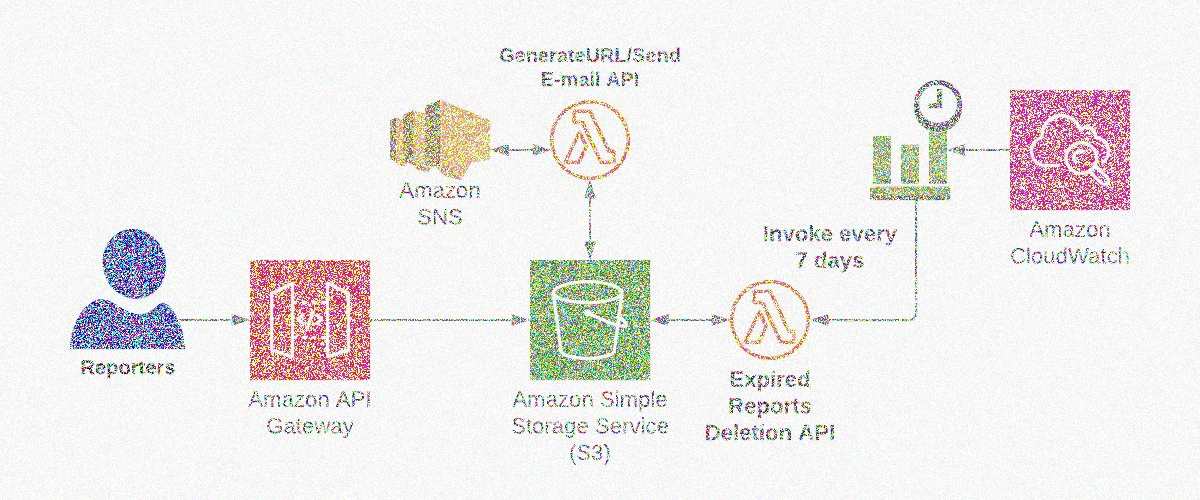API-Gateway: (242, 249, 375, 389)
Cloud Watch: (1006, 81, 1141, 216)
CloudWatch Alarm: (866, 76, 966, 208)
Lambda: (547, 91, 634, 186), (727, 269, 816, 360)
S3: (519, 254, 656, 387)
SNS: (382, 91, 496, 187)
Users: (69, 221, 190, 358)
